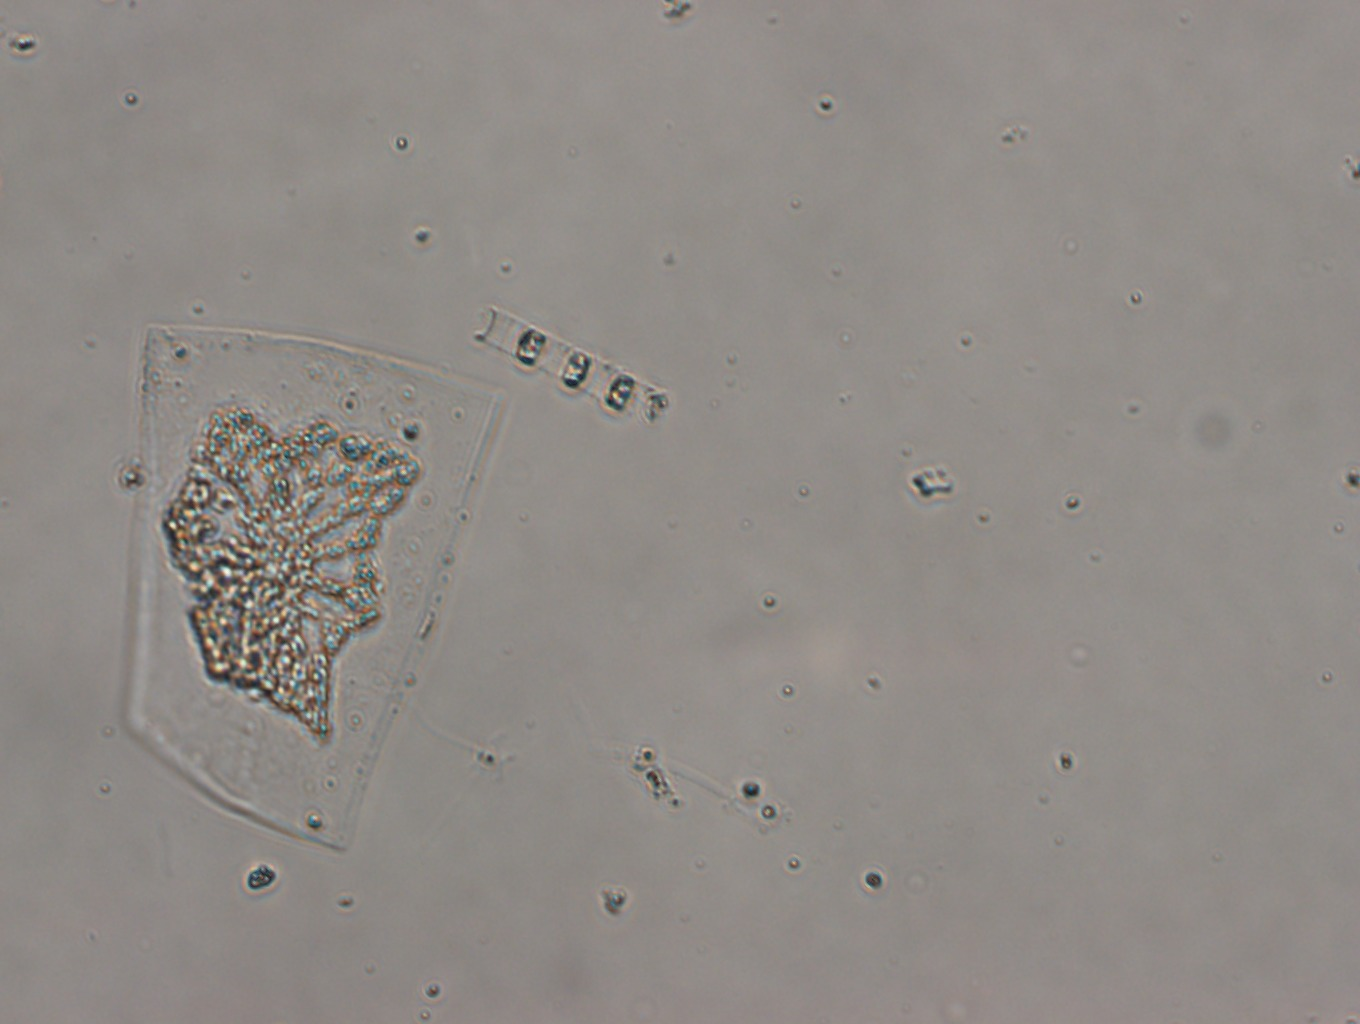helicotheca: (115, 323, 512, 861)
skeletonema: (474, 305, 668, 427)
